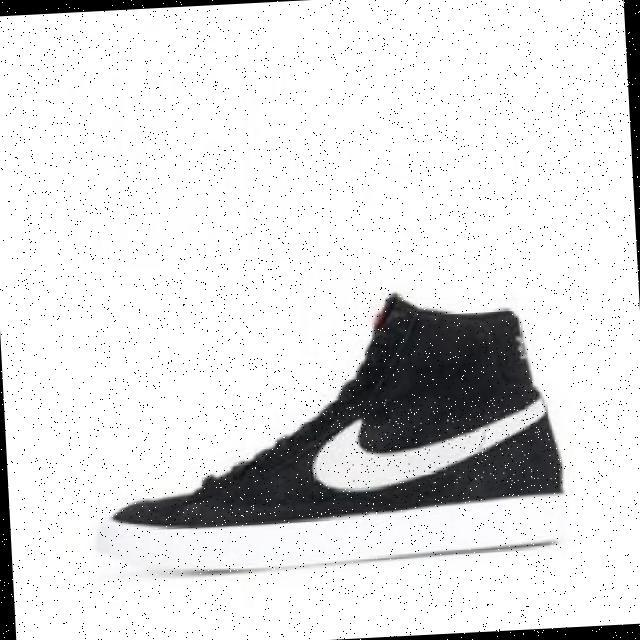Nike: (311, 392, 551, 492)
